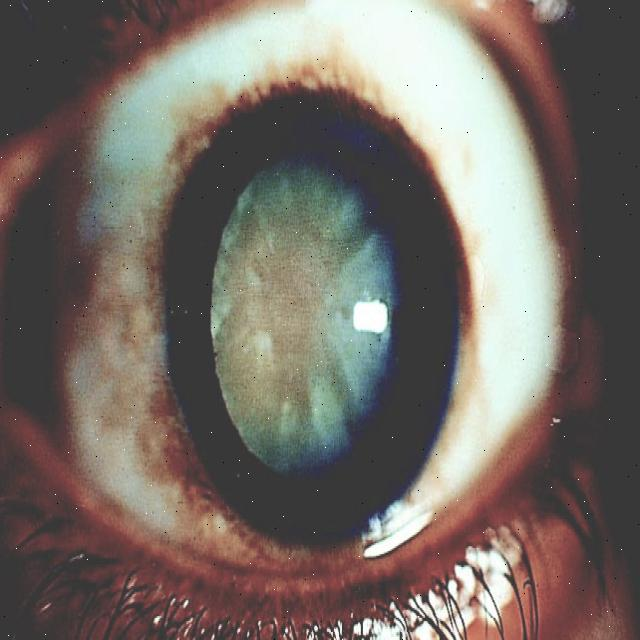Cataract: (160, 74, 459, 558)
